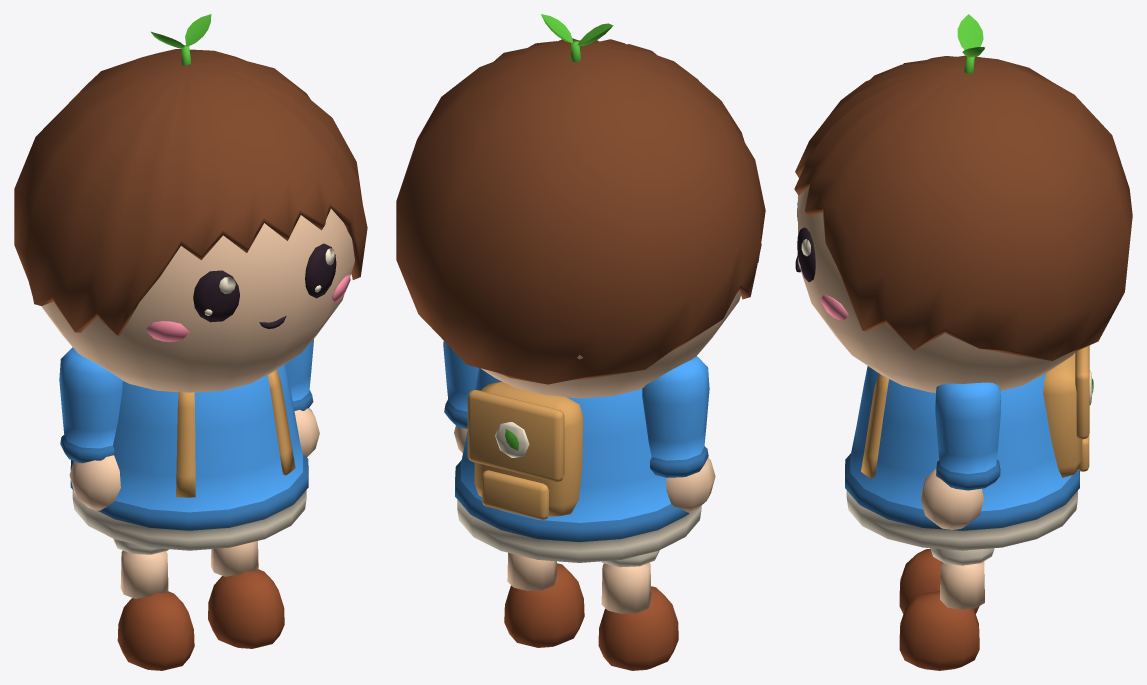
Rendered from hero.glb.
The picture shows the model from 3 angles, left to right: view 1: azimuth 30°, elevation 25°; view 2: azimuth 150°, elevation 25°; view 3: azimuth 270°, elevation 25°; orthographic projection. The views are drawn at different scales.
Visible parts, largest first — view 1: head, body, arm-left, leg-left, leg-right, arm-right, head-leaf; view 2: head, body, arm-left, leg-left, leg-right, arm-right, head-leaf; view 3: head, body, arm-right, leg-right, leg-left, head-leaf.
Part boxes in pixels (x1,y1,x2,y2): head: (14,49,367,392); body: (70,364,308,550); arm-left: (59,347,122,510); leg-left: (113,538,194,670); leg-right: (208,541,284,648); arm-right: (285,339,319,456); head-leaf: (151,14,211,65); head: (396,38,765,398); body: (455,368,701,562); arm-left: (642,356,715,512); leg-left: (598,550,678,670); leg-right: (504,552,584,647); arm-right: (443,341,478,452); head-leaf: (541,14,613,62); head: (794,55,1132,392); body: (845,345,1093,550); arm-right: (921,382,1000,529); leg-right: (899,548,994,670); leg-left: (899,548,979,613); head-leaf: (957,14,984,74).
Size of the model in its own units: 1.23 by 2.35 by 1.18.
